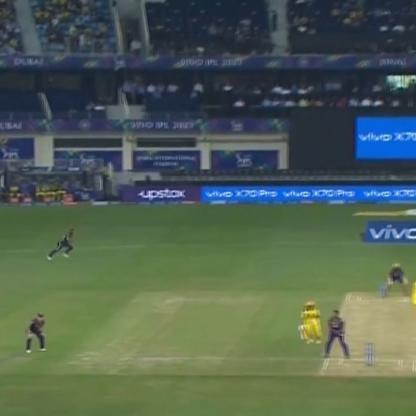pitch: (322, 292, 416, 376)
